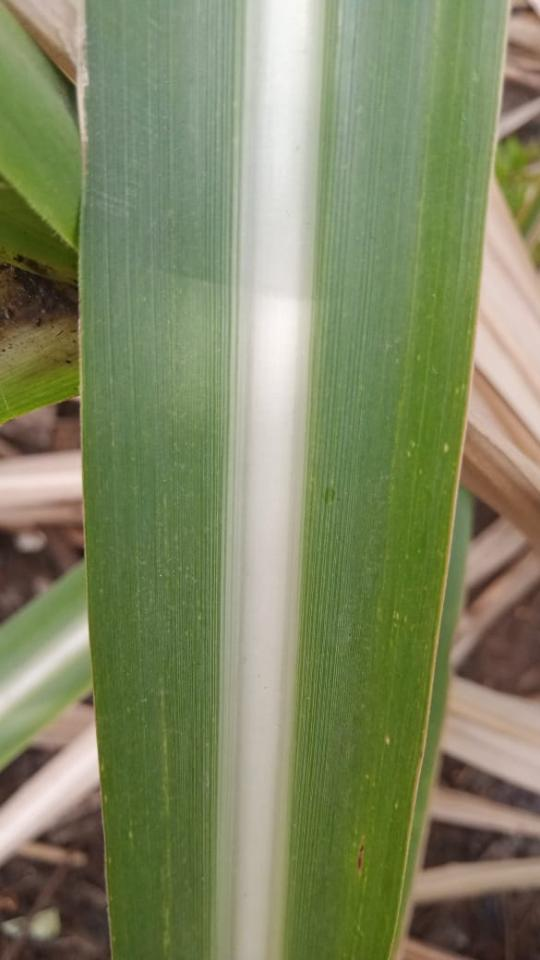Healthy: (79, 0, 509, 959)
